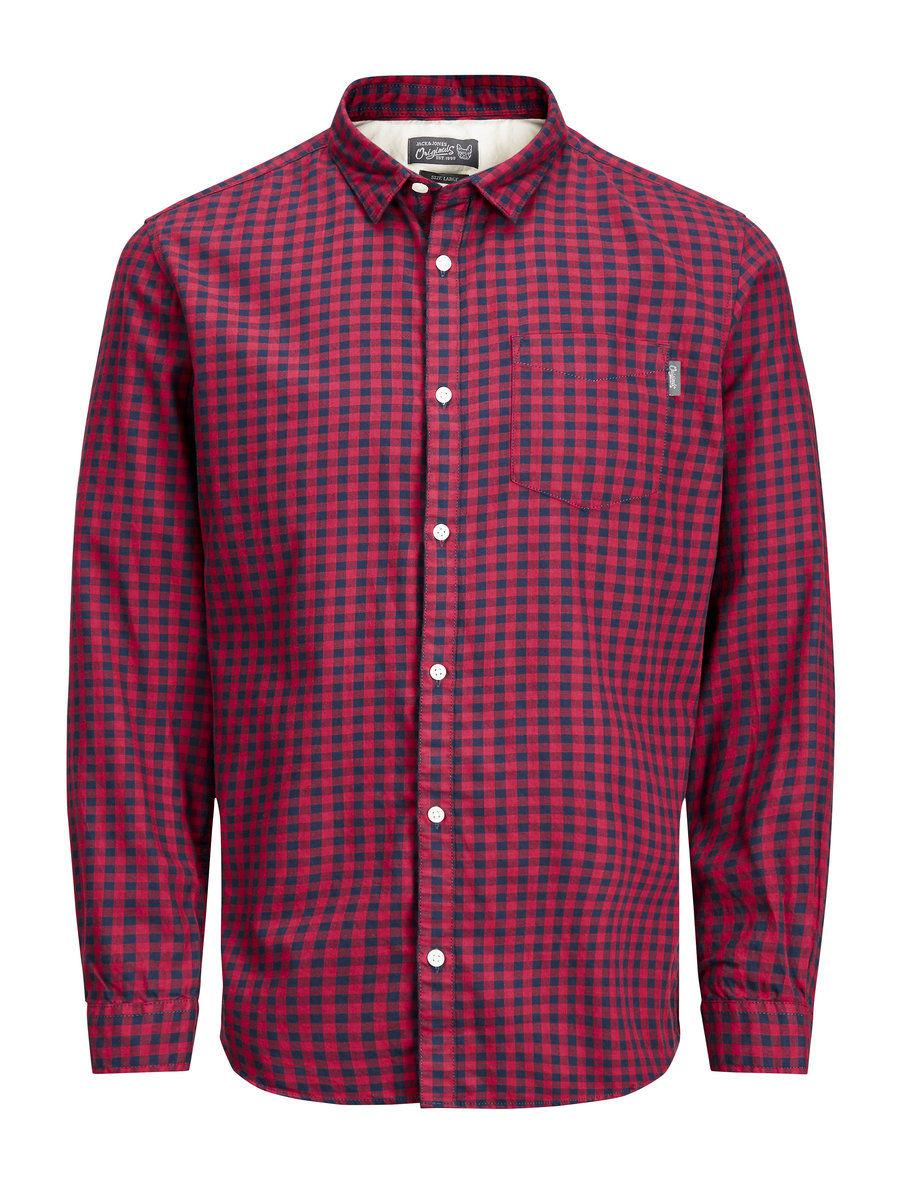teeshirt: (32, 54, 834, 1116)
